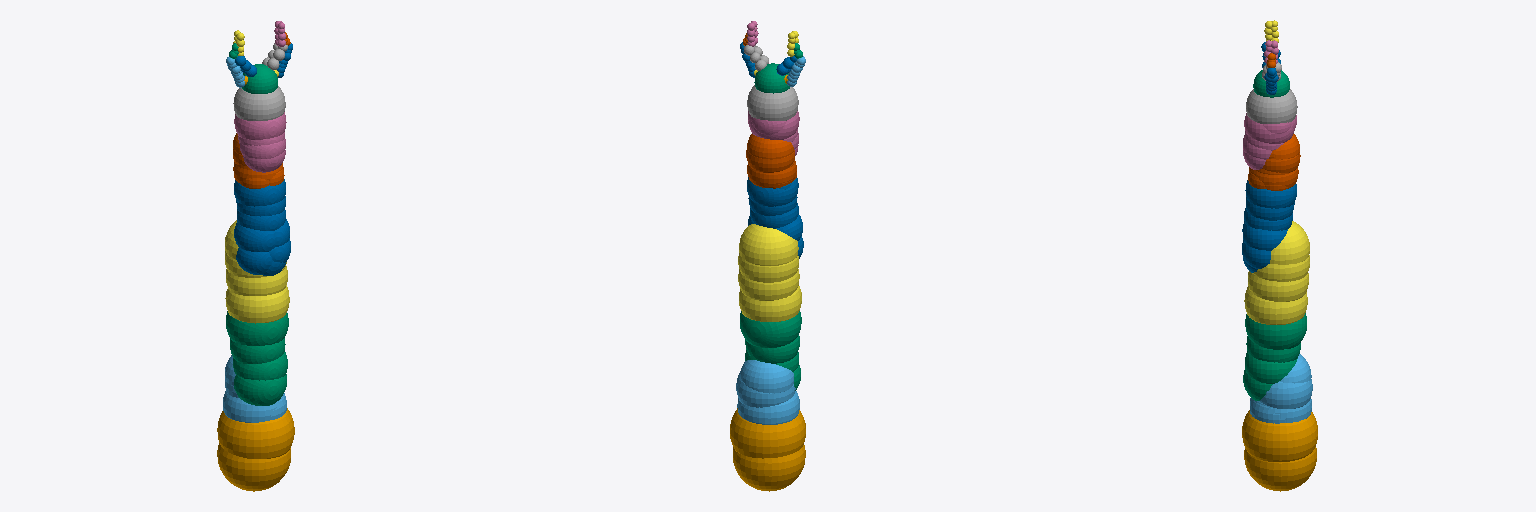
--- Render facts (derived) ---
3 views of the same robot in one strip: view 1: azimuth 30°, elevation 25°; view 2: azimuth 150°, elevation 25°; view 3: azimuth 270°, elevation 25° (orthographic).
Model gen3_robotiq_2f_140 with 21 links and 20 joints (3 revolute, 4 continuous, 13 fixed), rooted at base_link, posed every joint at zero.
Visible links, largest first — view 1: base_link, forearm_link, half_arm_1_link, half_arm_2_link, spherical_wrist_2_link, shoulder_link, bracelet_link, spherical_wrist_1_link, robotiq_arg2f_base_link; view 2: half_arm_2_link, base_link, shoulder_link, half_arm_1_link, forearm_link, spherical_wrist_1_link, bracelet_link, spherical_wrist_2_link, robotiq_arg2f_base_link; view 3: base_link, half_arm_2_link, half_arm_1_link, forearm_link, shoulder_link, spherical_wrist_1_link, spherical_wrist_2_link, bracelet_link.
Link boxes in pixels (x1,y1,x2,y2): base_link: (217, 408, 294, 491); forearm_link: (234, 179, 290, 275); half_arm_1_link: (226, 311, 288, 405); half_arm_2_link: (225, 220, 289, 323); spherical_wrist_2_link: (234, 112, 286, 172); shoulder_link: (223, 355, 286, 422); bracelet_link: (233, 86, 285, 120); spherical_wrist_1_link: (233, 133, 284, 188); robotiq_arg2f_base_link: (242, 64, 277, 93); half_arm_2_link: (738, 224, 801, 321); base_link: (730, 408, 805, 491); shoulder_link: (736, 360, 799, 424); half_arm_1_link: (740, 311, 801, 390); forearm_link: (747, 177, 803, 258); spherical_wrist_1_link: (746, 134, 796, 188); bracelet_link: (747, 85, 798, 120); spherical_wrist_2_link: (748, 111, 799, 155); robotiq_arg2f_base_link: (754, 63, 789, 93); base_link: (1242, 410, 1317, 491); half_arm_2_link: (1244, 221, 1309, 324); half_arm_1_link: (1243, 313, 1306, 400); forearm_link: (1242, 180, 1296, 272); shoulder_link: (1250, 354, 1312, 423); spherical_wrist_1_link: (1248, 134, 1300, 190); spherical_wrist_2_link: (1243, 113, 1296, 169); bracelet_link: (1246, 89, 1297, 123).
Bounding box of the posed robot: 0.2228 × 0.2232 × 1.47 m (x, y, z).
Geometry: primitives only (box / cylinder / sphere), no mesh files.

The robot description file, URDF, robot "gen3_robotiq_2f_140":
<?xml version='1.0' encoding='utf-8'?>
<robot name="gen3_robotiq_2f_140" path="../assets/kinova_gen3/kinova_gen3.urdf">
	<link name="base_link">
		<inertial>
			<origin rpy="0 0 0" xyz="-0.000648 -0.000166 0.084487" />
			<mass value="1.697" />
			<inertia ixx="0.004622" ixy="9E-06" ixz="6E-05" iyy="0.004495" iyz="9E-06" izz="0.002079" />
		</inertial>
		<collision>
			<geometry>
				<sphere radius="0.106585" />
			</geometry>
			<origin xyz="-0.0028389602056587437 0.0010719113916582753 0.04311152284472901" rpy="0 0 0" />
		</collision>
		<collision>
			<geometry>
				<sphere radius="0.111222" />
			</geometry>
			<origin xyz="0.0021220397943412564 -0.0003720886083417247 0.11760152284472901" rpy="0 0 0" />
		</collision>
	<visual name="base_link_visual_1">
			<geometry>
				<sphere radius="0.106585" />
			</geometry>
			<origin xyz="-0.0028389602056587437 0.0010719113916582753 0.04311152284472901" rpy="0 0 0" />
		</visual>
		<visual name="base_link_visual_2">
			<geometry>
				<sphere radius="0.111222" />
			</geometry>
			<origin xyz="0.0021220397943412564 -0.0003720886083417247 0.11760152284472901" rpy="0 0 0" />
		</visual>
	</link>
	<link name="shoulder_link">
		<inertial>
			<origin rpy="0 0 0" xyz="-2.3E-05 -0.010364 -0.07336" />
			<mass value="1.3773" />
			<inertia ixx="0.00457" ixy="1E-06" ixz="2E-06" iyy="0.004831" iyz="0.000448" izz="0.001409" />
		</inertial>
		<collision>
			<geometry>
				<sphere radius="0.091194" />
			</geometry>
			<origin xyz="-0.0015815146350677965 -0.0019901685723896292 -0.04552552105674328" rpy="0 0 0" />
		</collision>
		<collision>
			<geometry>
				<sphere radius="0.080253" />
			</geometry>
			<origin xyz="-0.0021415146350677967 -0.01081216857238963 -0.13783852105674327" rpy="0 0 0" />
		</collision>
		<collision>
			<geometry>
				<sphere radius="0.086897" />
			</geometry>
			<origin xyz="0.004183485364932203 -0.007935168572389628 -0.10612852105674328" rpy="0 0 0" />
		</collision>
		<collision>
			<geometry>
				<sphere radius="0.086099" />
			</geometry>
			<origin xyz="0.004012485364932203 0.0031908314276103715 -0.04079152105674329" rpy="0 0 0" />
		</collision>
	<visual name="shoulder_link_visual_1">
			<geometry>
				<sphere radius="0.091194" />
			</geometry>
			<origin xyz="-0.0015815146350677965 -0.0019901685723896292 -0.04552552105674328" rpy="0 0 0" />
		</visual>
		<visual name="shoulder_link_visual_2">
			<geometry>
				<sphere radius="0.080253" />
			</geometry>
			<origin xyz="-0.0021415146350677967 -0.01081216857238963 -0.13783852105674327" rpy="0 0 0" />
		</visual>
		<visual name="shoulder_link_visual_3">
			<geometry>
				<sphere radius="0.086897" />
			</geometry>
			<origin xyz="0.004183485364932203 -0.007935168572389628 -0.10612852105674328" rpy="0 0 0" />
		</visual>
		<visual name="shoulder_link_visual_4">
			<geometry>
				<sphere radius="0.086099" />
			</geometry>
			<origin xyz="0.004012485364932203 0.0031908314276103715 -0.04079152105674329" rpy="0 0 0" />
		</visual>
	</link>
	<link name="half_arm_1_link">
		<inertial>
			<origin rpy="0 0 0" xyz="-4.4E-05 -0.09958 -0.013278" />
			<mass value="1.1636" />
			<inertia ixx="0.011088" ixy="5E-06" ixz="0" iyy="0.001072" iyz="-0.000691" izz="0.011255" />
		</inertial>
		<collision>
			<geometry>
				<sphere radius="0.090615" />
			</geometry>
			<origin xyz="-0.00035647001452993504 -0.18133966889889402 -0.006131254814246081" rpy="0 0 0" />
		</collision>
		<collision>
			<geometry>
				<sphere radius="0.078671" />
			</geometry>
			<origin xyz="-0.002217470014529935 -0.002781668898894016 -0.02384225481424608" rpy="0 0 0" />
		</collision>
		<collision>
			<geometry>
				<sphere radius="0.079888" />
			</geometry>
			<origin xyz="-0.003008470014529935 -0.11413166889889402 -0.01311525481424608" rpy="0 0 0" />
		</collision>
		<collision>
			<geometry>
				<sphere radius="0.079413" />
			</geometry>
			<origin xyz="0.002277529985470065 -0.05416266889889402 -0.01892125481424608" rpy="0 0 0" />
		</collision>
	<visual name="half_arm_1_link_visual_1">
			<geometry>
				<sphere radius="0.090615" />
			</geometry>
			<origin xyz="-0.00035647001452993504 -0.18133966889889402 -0.006131254814246081" rpy="0 0 0" />
		</visual>
		<visual name="half_arm_1_link_visual_2">
			<geometry>
				<sphere radius="0.078671" />
			</geometry>
			<origin xyz="-0.002217470014529935 -0.002781668898894016 -0.02384225481424608" rpy="0 0 0" />
		</visual>
		<visual name="half_arm_1_link_visual_3">
			<geometry>
				<sphere radius="0.079888" />
			</geometry>
			<origin xyz="-0.003008470014529935 -0.11413166889889402 -0.01311525481424608" rpy="0 0 0" />
		</visual>
		<visual name="half_arm_1_link_visual_4">
			<geometry>
				<sphere radius="0.079413" />
			</geometry>
			<origin xyz="0.002277529985470065 -0.05416266889889402 -0.01892125481424608" rpy="0 0 0" />
		</visual>
	</link>
	<link name="half_arm_2_link">
		<inertial>
			<origin rpy="0 0 0" xyz="-4.4E-05 -0.006641 -0.117892" />
			<mass value="1.1636" />
			<inertia ixx="0.010932" ixy="0" ixz="-7E-06" iyy="0.011127" iyz="0.000606" izz="0.001043" />
		</inertial>
		<collision>
			<geometry>
				<sphere radius="0.092193" />
			</geometry>
			<origin xyz="0.0006058279132786116 0.0001973752587326131 -0.04209310161024811" rpy="0 0 0" />
		</collision>
		<collision>
			<geometry>
				<sphere radius="0.089643" />
			</geometry>
			<origin xyz="0.0019498279132786115 -0.006332624741267386 -0.11276610161024811" rpy="0 0 0" />
		</collision>
		<collision>
			<geometry>
				<sphere radius="0.087097" />
			</geometry>
			<origin xyz="-0.0010401720867213883 -0.011445624741267387 -0.2114391016102481" rpy="0 0 0" />
		</collision>
		<collision>
			<geometry>
				<sphere radius="0.089342" />
			</geometry>
			<origin xyz="0.0005388279132786116 -0.009662624741267386 -0.1692441016102481" rpy="0 0 0" />
		</collision>
	<visual name="half_arm_2_link_visual_1">
			<geometry>
				<sphere radius="0.092193" />
			</geometry>
			<origin xyz="0.0006058279132786116 0.0001973752587326131 -0.04209310161024811" rpy="0 0 0" />
		</visual>
		<visual name="half_arm_2_link_visual_2">
			<geometry>
				<sphere radius="0.089643" />
			</geometry>
			<origin xyz="0.0019498279132786115 -0.006332624741267386 -0.11276610161024811" rpy="0 0 0" />
		</visual>
		<visual name="half_arm_2_link_visual_3">
			<geometry>
				<sphere radius="0.087097" />
			</geometry>
			<origin xyz="-0.0010401720867213883 -0.011445624741267387 -0.2114391016102481" rpy="0 0 0" />
		</visual>
		<visual name="half_arm_2_link_visual_4">
			<geometry>
				<sphere radius="0.089342" />
			</geometry>
			<origin xyz="0.0005388279132786116 -0.009662624741267386 -0.1692441016102481" rpy="0 0 0" />
		</visual>
	</link>
	<link name="forearm_link">
		<inertial>
			<origin rpy="0 0 0" xyz="-1.8E-05 -0.075478 -0.015006" />
			<mass value="0.9302" />
			<inertia ixx="0.008147" ixy="-1E-06" ixz="0" iyy="0.000631" iyz="-0.0005" izz="0.008316" />
		</inertial>
		<collision>
			<geometry>
				<sphere radius="0.071417" />
			</geometry>
			<origin xyz="0.0022488866777107897 -0.14658364036506172 -0.01149060078421775" rpy="0 0 0" />
		</collision>
		<collision>
			<geometry>
				<sphere radius="0.075449" />
			</geometry>
			<origin xyz="0.0008238866777107896 -0.1865976403650617 -0.00758660078421775" rpy="0 0 0" />
		</collision>
		<collision>
			<geometry>
				<sphere radius="0.05023" />
			</geometry>
			<origin xyz="-0.01899511332228921 -0.20562264036506173 0.003261399215782248" rpy="0 0 0" />
		</collision>
		<collision>
			<geometry>
				<sphere radius="0.071334" />
			</geometry>
			<origin xyz="0.00022188667771078964 -0.10397864036506171 -0.01582860078421775" rpy="0 0 0" />
		</collision>
		<collision>
			<geometry>
				<sphere radius="0.070642" />
			</geometry>
			<origin xyz="-0.011813113322289211 -0.05176264036506171 -0.02135360078421775" rpy="0 0 0" />
		</collision>
		<collision>
			<geometry>
				<sphere radius="0.07042" />
			</geometry>
			<origin xyz="0.01178188667771079 -0.05193264036506171 -0.02090460078421775" rpy="0 0 0" />
		</collision>
		<collision>
			<geometry>
				<sphere radius="0.066151" />
			</geometry>
			<origin xyz="-0.016846113322289212 0.0054773596349382975 -0.02516060078421775" rpy="0 0 0" />
		</collision>
		<collision>
			<geometry>
				<sphere radius="0.065691" />
			</geometry>
			<origin xyz="0.005539886677710789 0.017132359634938296 -0.02594860078421775" rpy="0 0 0" />
		</collision>
		<collision>
			<geometry>
				<sphere radius="0.068771" />
			</geometry>
			<origin xyz="0.01423188667771079 -0.004856640365061712 -0.02546460078421775" rpy="0 0 0" />
		</collision>
	<visual name="forearm_link_visual_1">
			<geometry>
				<sphere radius="0.071417" />
			</geometry>
			<origin xyz="0.0022488866777107897 -0.14658364036506172 -0.01149060078421775" rpy="0 0 0" />
		</visual>
		<visual name="forearm_link_visual_2">
			<geometry>
				<sphere radius="0.075449" />
			</geometry>
			<origin xyz="0.0008238866777107896 -0.1865976403650617 -0.00758660078421775" rpy="0 0 0" />
		</visual>
		<visual name="forearm_link_visual_3">
			<geometry>
				<sphere radius="0.05023" />
			</geometry>
			<origin xyz="-0.01899511332228921 -0.20562264036506173 0.003261399215782248" rpy="0 0 0" />
		</visual>
		<visual name="forearm_link_visual_4">
			<geometry>
				<sphere radius="0.071334" />
			</geometry>
			<origin xyz="0.00022188667771078964 -0.10397864036506171 -0.01582860078421775" rpy="0 0 0" />
		</visual>
		<visual name="forearm_link_visual_5">
			<geometry>
				<sphere radius="0.070642" />
			</geometry>
			<origin xyz="-0.011813113322289211 -0.05176264036506171 -0.02135360078421775" rpy="0 0 0" />
		</visual>
		<visual name="forearm_link_visual_6">
			<geometry>
				<sphere radius="0.07042" />
			</geometry>
			<origin xyz="0.01178188667771079 -0.05193264036506171 -0.02090460078421775" rpy="0 0 0" />
		</visual>
		<visual name="forearm_link_visual_7">
			<geometry>
				<sphere radius="0.066151" />
			</geometry>
			<origin xyz="-0.016846113322289212 0.0054773596349382975 -0.02516060078421775" rpy="0 0 0" />
		</visual>
		<visual name="forearm_link_visual_8">
			<geometry>
				<sphere radius="0.065691" />
			</geometry>
			<origin xyz="0.005539886677710789 0.017132359634938296 -0.02594860078421775" rpy="0 0 0" />
		</visual>
		<visual name="forearm_link_visual_9">
			<geometry>
				<sphere radius="0.068771" />
			</geometry>
			<origin xyz="0.01423188667771079 -0.004856640365061712 -0.02546460078421775" rpy="0 0 0" />
		</visual>
	</link>
	<link name="spherical_wrist_1_link">
		<inertial>
			<origin rpy="0 0 0" xyz="1E-06 -0.009432 -0.063883" />
			<mass value="0.6781" />
			<inertia ixx="0.001596" ixy="0" ixz="0" iyy="0.001607" iyz="0.000256" izz="0.000399" />
		</inertial>
		<collision>
			<geometry>
				<sphere radius="0.069272" />
			</geometry>
			<origin xyz="-0.0011128281812018805 -0.013383711588637916 -0.10776088853186075" rpy="0 0 0" />
		</collision>
		<collision>
			<geometry>
				<sphere radius="0.071631" />
			</geometry>
			<origin xyz="-0.00017482818120188062 -0.012066711588637915 -0.08814188853186075" rpy="0 0 0" />
		</collision>
		<collision>
			<geometry>
				<sphere radius="0.05849" />
			</geometry>
			<origin xyz="0.00863317181879812 -0.006105711588637916 -0.11439788853186075" rpy="0 0 0" />
		</collision>
		<collision>
			<geometry>
				<sphere radius="0.068429" />
			</geometry>
			<origin xyz="0.00020117181879811936 -0.006875711588637916 -0.062411888531860756" rpy="0 0 0" />
		</collision>
		<collision>
			<geometry>
				<sphere radius="0.05998" />
			</geometry>
			<origin xyz="0.01176617181879812 -0.005603711588637915 -0.024077888531860756" rpy="0 0 0" />
		</collision>
		<collision>
			<geometry>
				<sphere radius="0.063872" />
			</geometry>
			<origin xyz="-0.0070528281812018805 -0.008839711588637915 -0.029328888531860754" rpy="0 0 0" />
		</collision>
		<collision>
			<geometry>
				<sphere radius="0.072406" />
			</geometry>
			<origin xyz="-0.00041182818120188064 -0.005554711588637915 -0.036324888531860756" rpy="0 0 0" />
		</collision>
		<collision>
			<geometry>
				<sphere radius="0.058017" />
			</geometry>
			<origin xyz="-0.01040582818120188 0.008838288411362083 -0.02230688853186076" rpy="0 0 0" />
		</collision>
		<collision>
			<geometry>
				<sphere radius="0.057836" />
			</geometry>
			<origin xyz="0.009345171818798119 0.011025288411362084 -0.022980888531860755" rpy="0 0 0" />
		</collision>
	<visual name="spherical_wrist_1_link_visual_1">
			<geometry>
				<sphere radius="0.069272" />
			</geometry>
			<origin xyz="-0.0011128281812018805 -0.013383711588637916 -0.10776088853186075" rpy="0 0 0" />
		</visual>
		<visual name="spherical_wrist_1_link_visual_2">
			<geometry>
				<sphere radius="0.071631" />
			</geometry>
			<origin xyz="-0.00017482818120188062 -0.012066711588637915 -0.08814188853186075" rpy="0 0 0" />
		</visual>
		<visual name="spherical_wrist_1_link_visual_3">
			<geometry>
				<sphere radius="0.05849" />
			</geometry>
			<origin xyz="0.00863317181879812 -0.006105711588637916 -0.11439788853186075" rpy="0 0 0" />
		</visual>
		<visual name="spherical_wrist_1_link_visual_4">
			<geometry>
				<sphere radius="0.068429" />
			</geometry>
			<origin xyz="0.00020117181879811936 -0.006875711588637916 -0.062411888531860756" rpy="0 0 0" />
		</visual>
		<visual name="spherical_wrist_1_link_visual_5">
			<geometry>
				<sphere radius="0.05998" />
			</geometry>
			<origin xyz="0.01176617181879812 -0.005603711588637915 -0.024077888531860756" rpy="0 0 0" />
		</visual>
		<visual name="spherical_wrist_1_link_visual_6">
			<geometry>
				<sphere radius="0.063872" />
			</geometry>
			<origin xyz="-0.0070528281812018805 -0.008839711588637915 -0.029328888531860754" rpy="0 0 0" />
		</visual>
		<visual name="spherical_wrist_1_link_visual_7">
			<geometry>
				<sphere radius="0.072406" />
			</geometry>
			<origin xyz="-0.00041182818120188064 -0.005554711588637915 -0.036324888531860756" rpy="0 0 0" />
		</visual>
		<visual name="spherical_wrist_1_link_visual_8">
			<geometry>
				<sphere radius="0.058017" />
			</geometry>
			<origin xyz="-0.01040582818120188 0.008838288411362083 -0.02230688853186076" rpy="0 0 0" />
		</visual>
		<visual name="spherical_wrist_1_link_visual_9">
			<geometry>
				<sphere radius="0.057836" />
			</geometry>
			<origin xyz="0.009345171818798119 0.011025288411362084 -0.022980888531860755" rpy="0 0 0" />
		</visual>
	</link>
	<link name="spherical_wrist_2_link">
		<inertial>
			<origin rpy="0 0 0" xyz="1E-06 -0.045483 -0.00965" />
			<mass value="0.6781" />
			<inertia ixx="0.001641" ixy="0" ixz="0" iyy="0.00041" iyz="-0.000278" izz="0.001641" />
		</inertial>
		<collision>
			<geometry>
				<sphere radius="0.074923" />
			</geometry>
			<origin xyz="-0.0006428535172599168 -0.08541720868890382 -0.005266136467073976" rpy="0 0 0" />
		</collision>
		<collision>
			<geometry>
				<sphere radius="0.064399" />
			</geometry>
			<origin xyz="-0.0033768535172599167 -0.09533520868890383 0.009213863532926025" rpy="0 0 0" />
		</collision>
		<collision>
			<geometry>
				<sphere radius="0.061292" />
			</geometry>
			<origin xyz="0.012980146482740084 -0.09892820868890383 0.001942863532926024" rpy="0 0 0" />
		</collision>
		<collision>
			<geometry>
				<sphere radius="0.067769" />
			</geometry>
			<origin xyz="-0.0003808535172599168 -0.04483420868890382 -0.011461136467073977" rpy="0 0 0" />
		</collision>
		<collision>
			<geometry>
				<sphere radius="0.068003" />
			</geometry>
			<origin xyz="-0.0007038535172599168 -0.019491208688903826 -0.016619136467073976" rpy="0 0 0" />
		</collision>
		<collision>
			<geometry>
				<sphere radius="0.045117" />
			</geometry>
			<origin xyz="-0.018136853517259917 0.008569791311096177 -0.012117136467073976" rpy="0 0 0" />
		</collision>
		<collision>
			<geometry>
				<sphere radius="0.060388" />
			</geometry>
			<origin xyz="-0.004210853517259917 0.005328791311096176 -0.021625136467073976" rpy="0 0 0" />
		</collision>
		<collision>
			<geometry>
				<sphere radius="0.061377" />
			</geometry>
			<origin xyz="0.0028871464827400833 0.004023791311096175 -0.021727136467073978" rpy="0 0 0" />
		</collision>
		<collision>
			<geometry>
				<sphere radius="0.050106" />
			</geometry>
			<origin xyz="0.012565146482740083 0.010904791311096174 -0.014690136467073976" rpy="0 0 0" />
		</collision>
	<visual name="spherical_wrist_2_link_visual_1">
			<geometry>
				<sphere radius="0.074923" />
			</geometry>
			<origin xyz="-0.0006428535172599168 -0.08541720868890382 -0.005266136467073976" rpy="0 0 0" />
		</visual>
		<visual name="spherical_wrist_2_link_visual_2">
			<geometry>
				<sphere radius="0.064399" />
			</geometry>
			<origin xyz="-0.0033768535172599167 -0.09533520868890383 0.009213863532926025" rpy="0 0 0" />
		</visual>
		<visual name="spherical_wrist_2_link_visual_3">
			<geometry>
				<sphere radius="0.061292" />
			</geometry>
			<origin xyz="0.012980146482740084 -0.09892820868890383 0.001942863532926024" rpy="0 0 0" />
		</visual>
		<visual name="spherical_wrist_2_link_visual_4">
			<geometry>
				<sphere radius="0.067769" />
			</geometry>
			<origin xyz="-0.0003808535172599168 -0.04483420868890382 -0.011461136467073977" rpy="0 0 0" />
		</visual>
		<visual name="spherical_wrist_2_link_visual_5">
			<geometry>
				<sphere radius="0.068003" />
			</geometry>
			<origin xyz="-0.0007038535172599168 -0.019491208688903826 -0.016619136467073976" rpy="0 0 0" />
		</visual>
		<visual name="spherical_wrist_2_link_visual_6">
			<geometry>
				<sphere radius="0.045117" />
			</geometry>
			<origin xyz="-0.018136853517259917 0.008569791311096177 -0.012117136467073976" rpy="0 0 0" />
		</visual>
		<visual name="spherical_wrist_2_link_visual_7">
			<geometry>
				<sphere radius="0.060388" />
			</geometry>
			<origin xyz="-0.004210853517259917 0.005328791311096176 -0.021625136467073976" rpy="0 0 0" />
		</visual>
		<visual name="spherical_wrist_2_link_visual_8">
			<geometry>
				<sphere radius="0.061377" />
			</geometry>
			<origin xyz="0.0028871464827400833 0.004023791311096175 -0.021727136467073978" rpy="0 0 0" />
		</visual>
		<visual name="spherical_wrist_2_link_visual_9">
			<geometry>
				<sphere radius="0.050106" />
			</geometry>
			<origin xyz="0.012565146482740083 0.010904791311096174 -0.014690136467073976" rpy="0 0 0" />
		</visual>
	</link>
	<link name="bracelet_link">
		<inertial>
			<origin rpy="0 0 0" xyz="-9.3E-05 0.000132 -0.022905" />
			<mass value="0.364" />
			<inertia ixx="0.000214" ixy="0" ixz="1E-06" iyy="0.000223" iyz="-2E-06" izz="0.00024" />
		</inertial>
		<collision>
			<geometry>
				<sphere radius="0.075089" />
			</geometry>
			<origin xyz="-0.0002936601190272949 -2.8636385271732176e-05 -0.03292566625354537" rpy="0 0 0" />
		</collision>
	<visual name="bracelet_link_visual_1">
			<geometry>
				<sphere radius="0.075089" />
			</geometry>
			<origin xyz="-0.0002936601190272949 -2.8636385271732176e-05 -0.03292566625354537" rpy="0 0 0" />
		</visual>
	</link>
	<link name="end_effector_link" />
	<link name="tool_frame" />
	<link name="robotiq_arg2f_base_link">
		<inertial>
			<origin rpy="0 0 0" xyz="8.625E-08 -4.6583E-06 0.03145" />
			<mass value="0.22652" />
			<inertia ixx="0.00020005" ixy="-4.2442E-10" ixz="-2.9069E-10" iyy="0.00017832" iyz="-3.4402E-08" izz="0.00013478" />
		</inertial>
		<collision>
			<geometry>
				<sphere radius="0.053503" />
			</geometry>
			<origin xyz="-1e-06 -1e-06 0.03976211301029474" rpy="0 0 0" />
		</collision>
	<visual name="robotiq_arg2f_base_link_visual_1">
			<geometry>
				<sphere radius="0.053503" />
			</geometry>
			<origin xyz="-1e-06 -1e-06 0.03976211301029474" rpy="0 0 0" />
		</visual>
	</link>
	<link name="left_outer_knuckle">
		<inertial>
			<origin rpy="0 0 0" xyz="-0.000200000000003065 0.0199435877845359 0.0292245259211331" />
			<mass value="0.00853198276973456" />
			<inertia ixx="2.89328108496468E-06" ixy="-1.57935047237397E-19" ixz="-1.93980378593255E-19" iyy="1.86719750325683E-06" iyz="-1.21858577871576E-06" izz="1.21905238907251E-06" />
		</inertial>
		<collision>
			<geometry>
				<sphere radius="0.012743" />
			</geometry>
			<origin xyz="-0.00019999966025352478 0.02048839362347126 0.02052081721776724" rpy="0 0 0" />
		</collision>
		<collision>
			<geometry>
				<sphere radius="0.013744" />
			</geometry>
			<origin xyz="-0.00019999966025352478 0.018234393623471262 0.01590081721776724" rpy="0 0 0" />
		</collision>
		<collision>
			<geometry>
				<sphere radius="0.013928" />
			</geometry>
			<origin xyz="-0.00019999966025352478 0.011400393623471259 0.009848817217767238" rpy="0 0 0" />
		</collision>
		<collision>
			<geometry>
				<sphere radius="0.008064" />
			</geometry>
			<origin xyz="-0.00018199966025352478 -0.014014606376528741 -0.01488018278223276" rpy="0 0 0" />
		</collision>
		<collision>
			<geometry>
				<sphere radius="0.010542" />
			</geometry>
			<origin xyz="-0.0006929996602535247 -0.00623760637652874 -0.007067182782232761" rpy="0 0 0" />
		</collision>
		<collision>
			<geometry>
				<sphere radius="0.01151" />
			</geometry>
			<origin xyz="-0.00017099966025352478 0.0023013936234712604 0.0013738172177672385" rpy="0 0 0" />
		</collision>
	<visual name="left_outer_knuckle_visual_1">
			<geometry>
				<sphere radius="0.012743" />
			</geometry>
			<origin xyz="-0.00019999966025352478 0.02048839362347126 0.02052081721776724" rpy="0 0 0" />
		</visual>
		<visual name="left_outer_knuckle_visual_2">
			<geometry>
				<sphere radius="0.013744" />
			</geometry>
			<origin xyz="-0.00019999966025352478 0.018234393623471262 0.01590081721776724" rpy="0 0 0" />
		</visual>
		<visual name="left_outer_knuckle_visual_3">
			<geometry>
				<sphere radius="0.013928" />
			</geometry>
			<origin xyz="-0.00019999966025352478 0.011400393623471259 0.009848817217767238" rpy="0 0 0" />
		</visual>
		<visual name="left_outer_knuckle_visual_4">
			<geometry>
				<sphere radius="0.008064" />
			</geometry>
			<origin xyz="-0.00018199966025352478 -0.014014606376528741 -0.01488018278223276" rpy="0 0 0" />
		</visual>
		<visual name="left_outer_knuckle_visual_5">
			<geometry>
				<sphere radius="0.010542" />
			</geometry>
			<origin xyz="-0.0006929996602535247 -0.00623760637652874 -0.007067182782232761" rpy="0 0 0" />
		</visual>
		<visual name="left_outer_knuckle_visual_6">
			<geometry>
				<sphere radius="0.01151" />
			</geometry>
			<origin xyz="-0.00017099966025352478 0.0023013936234712604 0.0013738172177672385" rpy="0 0 0" />
		</visual>
	</link>
	<link name="left_outer_finger">
		<inertial>
			<origin rpy="0 0 0" xyz="0.00030115855001899 0.0373907951953854 -0.0208027427000385" />
			<mass value="0.022614240507152" />
			<inertia ixx="1.52518312458174E-05" ixy="9.76583423954399E-10" ixz="-5.43838577022588E-10" iyy="6.17694243867776E-06" iyz="6.78636130740228E-06" izz="1.16494917907219E-05" />
		</inertial>
		<collision>
			<geometry>
				<sphere radius="0.015017" />
			</geometry>
			<origin xyz="-0.0007529954268336296 0.038191566359490156 -0.014729038674920798" rpy="0 0 0" />
		</collision>
		<collision>
			<geometry>
				<sphere radius="0.01438" />
			</geometry>
			<origin xyz="-0.0002139954268336296 0.08000556635949016 -0.027427038674920797" rpy="0 0 0" />
		</collision>
		<collision>
			<geometry>
				<sphere radius="0.015713" />
			</geometry>
			<origin xyz="0.0002440045731663704 0.027060566359490154 -0.011313038674920797" rpy="0 0 0" />
		</collision>
		<collision>
			<geometry>
				<sphere radius="0.015813" />
			</geometry>
			<origin xyz="-0.0005939954268336296 0.015680566359490156 -0.007732038674920797" rpy="0 0 0" />
		</collision>
		<collision>
			<geometry>
				<sphere radius="0.014978" />
			</geometry>
			<origin xyz="-0.00611599542683363 0.055784566359490154 -0.020123038674920796" rpy="0 0 0" />
		</collision>
		<collision>
			<geometry>
				<sphere radius="0.014533" />
			</geometry>
			<origin xyz="0.00555600457316637 0.051975566359490154 -0.018955038674920797" rpy="0 0 0" />
		</collision>
		<collision>
			<geometry>
				<sphere radius="0.015732" />
			</geometry>
			<origin xyz="-0.0001989954268336296 0.0037445663594901576 -0.0018980386749207975" rpy="0 0 0" />
		</collision>
		<collision>
			<geometry>
				<sphere radius="0.015163" />
			</geometry>
			<origin xyz="0.0001950045731663704 0.06990656635949016 -0.024438038674920795" rpy="0 0 0" />
		</collision>
	<visual name="left_outer_finger_visual_1">
			<geometry>
				<sphere radius="0.015017" />
			</geometry>
			<origin xyz="-0.0007529954268336296 0.038191566359490156 -0.014729038674920798" rpy="0 0 0" />
		</visual>
		<visual name="left_outer_finger_visual_2">
			<geometry>
				<sphere radius="0.01438" />
			</geometry>
			<origin xyz="-0.0002139954268336296 0.08000556635949016 -0.027427038674920797" rpy="0 0 0" />
		</visual>
		<visual name="left_outer_finger_visual_3">
			<geometry>
				<sphere radius="0.015713" />
			</geometry>
			<origin xyz="0.0002440045731663704 0.027060566359490154 -0.011313038674920797" rpy="0 0 0" />
		</visual>
		<visual name="left_outer_finger_visual_4">
			<geometry>
				<sphere radius="0.015813" />
			</geometry>
			<origin xyz="-0.0005939954268336296 0.015680566359490156 -0.007732038674920797" rpy="0 0 0" />
		</visual>
		<visual name="left_outer_finger_visual_5">
			<geometry>
				<sphere radius="0.014978" />
			</geometry>
			<origin xyz="-0.00611599542683363 0.055784566359490154 -0.020123038674920796" rpy="0 0 0" />
		</visual>
		<visual name="left_outer_finger_visual_6">
			<geometry>
				<sphere radius="0.014533" />
			</geometry>
			<origin xyz="0.00555600457316637 0.051975566359490154 -0.018955038674920797" rpy="0 0 0" />
		</visual>
		<visual name="left_outer_finger_visual_7">
			<geometry>
				<sphere radius="0.015732" />
			</geometry>
			<origin xyz="-0.0001989954268336296 0.0037445663594901576 -0.0018980386749207975" rpy="0 0 0" />
		</visual>
		<visual name="left_outer_finger_visual_8">
			<geometry>
				<sphere radius="0.015163" />
			</geometry>
			<origin xyz="0.0001950045731663704 0.06990656635949016 -0.024438038674920795" rpy="0 0 0" />
		</visual>
	</link>
	<link name="left_inner_finger">
		<inertial>
			<origin rpy="0 0 0" xyz="0.000299999999999317 0.0160078233491243 -0.0136945669206257" />
			<mass value="0.0104003125914103" />
			<inertia ixx="2.71909453810972E-06" ixy="1.35402465472579E-21" ixz="-7.1817349065269E-22" iyy="7.69100314106116E-07" iyz="6.74715432769696E-07" izz="2.30315190420171E-06" />
		</inertial>
		<collision>
			<geometry>
				<sphere radius="0.01223" />
			</geometry>
			<origin xyz="-0.00019899826326966286 0.03709378533244133 -0.017156007689893248" rpy="0 0 0" />
		</collision>
		<collision>
			<geometry>
				<sphere radius="0.012987" />
			</geometry>
			<origin xyz="-0.00019999826326966286 0.02389478533244133 -0.015688007689893244" rpy="0 0 0" />
		</collision>
		<collision>
			<geometry>
				<sphere radius="0.013304" />
			</geometry>
			<origin xyz="-0.00019999826326966286 0.0074657853324413305 -0.016401007689893245" rpy="0 0 0" />
		</collision>
		<collision>
			<geometry>
				<sphere radius="0.011631" />
			</geometry>
			<origin xyz="-0.00019999826326966286 0.0023397853324413284 -0.002310007689893246" rpy="0 0 0" />
		</collision>
		<collision>
			<geometry>
				<sphere radius="0.013312" />
			</geometry>
			<origin xyz="-0.00019999826326966286 0.01608078533244133 -0.008831007689893245" rpy="0 0 0" />
		</collision>
	<visual name="left_inner_finger_visual_1">
			<geometry>
				<sphere radius="0.01223" />
			</geometry>
			<origin xyz="-0.00019899826326966286 0.03709378533244133 -0.017156007689893248" rpy="0 0 0" />
		</visual>
		<visual name="left_inner_finger_visual_2">
			<geometry>
				<sphere radius="0.012987" />
			</geometry>
			<origin xyz="-0.00019999826326966286 0.02389478533244133 -0.015688007689893244" rpy="0 0 0" />
		</visual>
		<visual name="left_inner_finger_visual_3">
			<geometry>
				<sphere radius="0.013304" />
			</geometry>
			<origin xyz="-0.00019999826326966286 0.0074657853324413305 -0.016401007689893245" rpy="0 0 0" />
		</visual>
		<visual name="left_inner_finger_visual_4">
			<geometry>
				<sphere radius="0.011631" />
			</geometry>
			<origin xyz="-0.00019999826326966286 0.0023397853324413284 -0.002310007689893246" rpy="0 0 0" />
		</visual>
		<visual name="left_inner_finger_visual_5">
			<geometry>
				<sphere radius="0.013312" />
			</geometry>
			<origin xyz="-0.00019999826326966286 0.01608078533244133 -0.008831007689893245" rpy="0 0 0" />
		</visual>
	</link>
	<link name="left_inner_finger_pad">
		<collision>
			<geometry>
				<sphere radius="0.01168" />
			</geometry>
			<origin xyz="0.006303 -0.028186 0.0" rpy="0 0 0" />
		</collision>
		<collision>
			<geometry>
				<sphere radius="0.012372" />
			</geometry>
			<origin xyz="-0.008853 -0.02494 0.0" rpy="0 0 0" />
		</collision>
		<collision>
			<geometry>
				<sphere radius="0.011967" />
			</geometry>
			<origin xyz="0.006878 -0.012499 0.0" rpy="0 0 0" />
		</collision>
		<collision>
			<geometry>
				<sphere radius="0.012126" />
			</geometry>
			<origin xyz="-0.010292 -0.003527 0.0" rpy="0 0 0" />
		</collision>
		<collision>
			<geometry>
				<sphere radius="0.012565" />
			</geometry>
			<origin xyz="0.008954 0.006853 0.0" rpy="0 0 0" />
		</collision>
		<collision>
			<geometry>
				<sphere radius="0.010995" />
			</geometry>
			<origin xyz="-0.006813 0.014358 0.0" rpy="0 0 0" />
		</collision>
		<collision>
			<geometry>
				<sphere radius="0.012008" />
			</geometry>
			<origin xyz="0.007685 0.026253 0.0" rpy="0 0 0" />
		</collision>
		<collision>
			<geometry>
				<sphere radius="0.010647" />
			</geometry>
			<origin xyz="-0.00758 0.028348 0.0" rpy="0 0 0" />
		</collision>
	<visual name="left_inner_finger_pad_visual_1">
			<geometry>
				<sphere radius="0.01168" />
			</geometry>
			<origin xyz="0.006303 -0.028186 0.0" rpy="0 0 0" />
		</visual>
		<visual name="left_inner_finger_pad_visual_2">
			<geometry>
				<sphere radius="0.012372" />
			</geometry>
			<origin xyz="-0.008853 -0.02494 0.0" rpy="0 0 0" />
		</visual>
		<visual name="left_inner_finger_pad_visual_3">
			<geometry>
				<sphere radius="0.011967" />
			</geometry>
			<origin xyz="0.006878 -0.012499 0.0" rpy="0 0 0" />
		</visual>
		<visual name="left_inner_finger_pad_visual_4">
			<geometry>
				<sphere radius="0.012126" />
			</geometry>
			<origin xyz="-0.010292 -0.003527 0.0" rpy="0 0 0" />
		</visual>
		<visual name="left_inner_finger_pad_visual_5">
			<geometry>
				<sphere radius="0.012565" />
			</geometry>
			<origin xyz="0.008954 0.006853 0.0" rpy="0 0 0" />
		</visual>
		<visual name="left_inner_finger_pad_visual_6">
			<geometry>
				<sphere radius="0.010995" />
			</geometry>
			<origin xyz="-0.006813 0.014358 0.0" rpy="0 0 0" />
		</visual>
		<visual name="left_inner_finger_pad_visual_7">
			<geometry>
				<sphere radius="0.012008" />
			</geometry>
			<origin xyz="0.007685 0.026253 0.0" rpy="0 0 0" />
		</visual>
		<visual name="left_inner_finger_pad_visual_8">
			<geometry>
				<sphere radius="0.010647" />
			</geometry>
			<origin xyz="-0.00758 0.028348 0.0" rpy="0 0 0" />
		</visual>
	</link>
	<link name="left_inner_knuckle">
		<inertial>
			<origin rpy="0 0 0" xyz="0.000123011831763771 0.0507850843201817 0.00103968640075166" />
			<mass value="0.0271177346495152" />
			<inertia ixx="2.61910379223783E-05" ixy="-2.43616858946494E-07" ixz="-6.37789906117123E-09" iyy="2.8270243746167E-06" iyz="-5.37200748039765E-07" izz="2.83695868220296E-05" />
		</inertial>
		<collision>
			<geometry>
				<sphere radius="0.017433" />
			</geometry>
			<origin xyz="-0.011491000846385956 0.009454694714218378 -0.00021026292836666112" rpy="0 0 0" />
		</collision>
		<collision>
			<geometry>
				<sphere radius="0.017072" />
			</geometry>
			<origin xyz="0.008844999153614044 0.006851694714218377 -0.00015226292836666112" rpy="0 0 0" />
		</collision>
		<collision>
			<geometry>
				<sphere radius="0.018156" />
			</geometry>
			<origin xyz="0.009525999153614044 0.03400569471421838 -0.000754262928366661" rpy="0 0 0" />
		</collision>
		<collision>
			<geometry>
				<sphere radius="0.017869" />
			</geometry>
			<origin xyz="-0.010610000846385956 0.040353694714218374 -0.0008952629283666611" rpy="0 0 0" />
		</collision>
		<collision>
			<geometry>
				<sphere radius="0.016357" />
			</geometry>
			<origin xyz="0.010540999153614044 0.06187269471421838 -0.001373262928366661" rpy="0 0 0" />
		</collision>
		<collision>
			<geometry>
				<sphere radius="0.017531" />
			</geometry>
			<origin xyz="-0.008726000846385955 0.07194569471421838 -0.001597262928366661" rpy="0 0 0" />
		</collision>
		<collision>
			<geometry>
				<sphere radius="0.016813" />
			</geometry>
			<origin xyz="0.013444999153614044 0.09027369471421838 -0.002003262928366661" rpy="0 0 0" />
		</collision>
		<collision>
			<geometry>
				<sphere radius="0.014551" />
			</geometry>
			<origin xyz="-0.002933000846385956 0.09701569471421838 -0.002153262928366661" rpy="0 0 0" />
		</collision>
	<visual name="left_inner_knuckle_visual_1">
			<geometry>
				<sphere radius="0.017433" />
			</geometry>
			<origin xyz="-0.011491000846385956 0.009454694714218378 -0.00021026292836666112" rpy="0 0 0" />
		</visual>
		<visual name="left_inner_knuckle_visual_2">
			<geometry>
				<sphere radius="0.017072" />
			</geometry>
			<origin xyz="0.008844999153614044 0.006851694714218377 -0.00015226292836666112" rpy="0 0 0" />
		</visual>
		<visual name="left_inner_knuckle_visual_3">
			<geometry>
				<sphere radius="0.018156" />
			</geometry>
			<origin xyz="0.009525999153614044 0.03400569471421838 -0.000754262928366661" rpy="0 0 0" />
		</visual>
		<visual name="left_inner_knuckle_visual_4">
			<geometry>
				<sphere radius="0.017869" />
			</geometry>
			<origin xyz="-0.010610000846385956 0.040353694714218374 -0.0008952629283666611" rpy="0 0 0" />
		</visual>
		<visual name="left_inner_knuckle_visual_5">
			<geometry>
				<sphere radius="0.016357" />
			</geometry>
			<origin xyz="0.010540999153614044 0.06187269471421838 -0.001373262928366661" rpy="0 0 0" />
		</visual>
		<visual name="left_inner_knuckle_visual_6">
			<geometry>
				<sphere radius="0.017531" />
			</geometry>
			<origin xyz="-0.008726000846385955 0.07194569471421838 -0.001597262928366661" rpy="0 0 0" />
		</visual>
		<visual name="left_inner_knuckle_visual_7">
			<geometry>
				<sphere radius="0.016813" />
			</geometry>
			<origin xyz="0.013444999153614044 0.09027369471421838 -0.002003262928366661" rpy="0 0 0" />
		</visual>
		<visual name="left_inner_knuckle_visual_8">
			<geometry>
				<sphere radius="0.014551" />
			</geometry>
			<origin xyz="-0.002933000846385956 0.09701569471421838 -0.002153262928366661" rpy="0 0 0" />
		</visual>
	</link>
	<link name="right_outer_knuckle">
		<inertial>
			<origin rpy="0 0 0" xyz="-0.000200000000003065 0.0199435877845359 0.0292245259211331" />
			<mass value="0.00853198276973456" />
			<inertia ixx="2.89328108496468E-06" ixy="-1.57935047237397E-19" ixz="-1.93980378593255E-19" iyy="1.86719750325683E-06" iyz="-1.21858577871576E-06" izz="1.21905238907251E-06" />
		</inertial>
		<collision>
			<geometry>
				<sphere radius="0.012743" />
			</geometry>
			<origin xyz="-0.00019999966025352478 0.02048839362347126 0.02052081721776724" rpy="0 0 0" />
		</collision>
		<collision>
			<geometry>
				<sphere radius="0.013744" />
			</geometry>
			<origin xyz="-0.00019999966025352478 0.018234393623471262 0.01590081721776724" rpy="0 0 0" />
		</collision>
		<collision>
			<geometry>
				<sphere radius="0.013928" />
			</geometry>
			<origin xyz="-0.00019999966025352478 0.011400393623471259 0.009848817217767238" rpy="0 0 0" />
		</collision>
		<collision>
			<geometry>
				<sphere radius="0.008064" />
			</geometry>
			<origin xyz="-0.00018199966025352478 -0.014014606376528741 -0.01488018278223276" rpy="0 0 0" />
		</collision>
		<collision>
			<geometry>
				<sphere radius="0.010542" />
			</geometry>
			<origin xyz="-0.0006929996602535247 -0.00623760637652874 -0.007067182782232761" rpy="0 0 0" />
		</collision>
		<collision>
			<geometry>
				<sphere radius="0.01151" />
			</geometry>
			<origin xyz="-0.00017099966025352478 0.0023013936234712604 0.0013738172177672385" rpy="0 0 0" />
		</collision>
	<visual name="right_outer_knuckle_visual_1">
			<geometry>
				<sphere radius="0.012743" />
			</geometry>
			<origin xyz="-0.00019999966025352478 0.02048839362347126 0.02052081721776724" rpy="0 0 0" />
		</visual>
		<visual name="right_outer_knuckle_visual_2">
			<geometry>
				<sphere radius="0.013744" />
			</geometry>
			<origin xyz="-0.00019999966025352478 0.018234393623471262 0.01590081721776724" rpy="0 0 0" />
		</visual>
		<visual name="right_outer_knuckle_visual_3">
			<geometry>
				<sphere radius="0.013928" />
			</geometry>
			<origin xyz="-0.00019999966025352478 0.011400393623471259 0.009848817217767238" rpy="0 0 0" />
		</visual>
		<visual name="right_outer_knuckle_visual_4">
			<geometry>
				<sphere radius="0.008064" />
			</geometry>
			<origin xyz="-0.00018199966025352478 -0.014014606376528741 -0.01488018278223276" rpy="0 0 0" />
		</visual>
		<visual name="right_outer_knuckle_visual_5">
			<geometry>
				<sphere radius="0.010542" />
			</geometry>
			<origin xyz="-0.0006929996602535247 -0.00623760637652874 -0.007067182782232761" rpy="0 0 0" />
		</visual>
		<visual name="right_outer_knuckle_visual_6">
			<geometry>
				<sphere radius="0.01151" />
			</geometry>
			<origin xyz="-0.00017099966025352478 0.0023013936234712604 0.0013738172177672385" rpy="0 0 0" />
		</visual>
	</link>
	<link name="right_outer_finger">
		<inertial>
			<origin rpy="0 0 0" xyz="0.00030115855001899 0.0373907951953854 -0.0208027427000385" />
			<mass value="0.022614240507152" />
			<inertia ixx="1.52518312458174E-05" ixy="9.76583423954399E-10" ixz="-5.43838577022588E-10" iyy="6.17694243867776E-06" iyz="6.78636130740228E-06" izz="1.16494917907219E-05" />
		</inertial>
		<collision>
			<geometry>
				<sphere radius="0.015017" />
			</geometry>
			<origin xyz="-0.0007529954268336296 0.038191566359490156 -0.014729038674920798" rpy="0 0 0" />
		</collision>
		<collision>
			<geometry>
				<sphere radius="0.01438" />
			</geometry>
			<origin xyz="-0.0002139954268336296 0.08000556635949016 -0.027427038674920797" rpy="0 0 0" />
		</collision>
		<collision>
			<geometry>
				<sphere radius="0.015713" />
			</geometry>
			<origin xyz="0.0002440045731663704 0.027060566359490154 -0.011313038674920797" rpy="0 0 0" />
		</collision>
		<collision>
			<geometry>
				<sphere radius="0.015813" />
			</geometry>
			<origin xyz="-0.0005939954268336296 0.015680566359490156 -0.007732038674920797" rpy="0 0 0" />
		</collision>
		<collision>
			<geometry>
				<sphere radius="0.014978" />
			</geometry>
			<origin xyz="-0.00611599542683363 0.055784566359490154 -0.020123038674920796" rpy="0 0 0" />
		</collision>
		<collision>
			<geometry>
				<sphere radius="0.014533" />
			</geometry>
			<origin xyz="0.00555600457316637 0.051975566359490154 -0.018955038674920797" rpy="0 0 0" />
		</collision>
		<collision>
			<geometry>
				<sphere radius="0.015732" />
			</geometry>
			<origin xyz="-0.0001989954268336296 0.0037445663594901576 -0.0018980386749207975" rpy="0 0 0" />
		</collision>
		<collision>
			<geometry>
				<sphere radius="0.015163" />
			</geometry>
			<origin xyz="0.0001950045731663704 0.06990656635949016 -0.024438038674920795" rpy="0 0 0" />
		</collision>
	<visual name="right_outer_finger_visual_1">
			<geometry>
				<sphere radius="0.015017" />
			</geometry>
			<origin xyz="-0.0007529954268336296 0.038191566359490156 -0.014729038674920798" rpy="0 0 0" />
		</visual>
		<visual name="right_outer_finger_visual_2">
			<geometry>
				<sphere radius="0.01438" />
			</geometry>
			<origin xyz="-0.0002139954268336296 0.08000556635949016 -0.027427038674920797" rpy="0 0 0" />
		</visual>
		<visual name="right_outer_finger_visual_3">
			<geometry>
				<sphere radius="0.015713" />
			</geometry>
			<origin xyz="0.0002440045731663704 0.027060566359490154 -0.011313038674920797" rpy="0 0 0" />
		</visual>
		<visual name="right_outer_finger_visual_4">
			<geometry>
				<sphere radius="0.015813" />
			</geometry>
			<origin xyz="-0.0005939954268336296 0.015680566359490156 -0.007732038674920797" rpy="0 0 0" />
		</visual>
		<visual name="right_outer_finger_visual_5">
			<geometry>
				<sphere radius="0.014978" />
			</geometry>
			<origin xyz="-0.00611599542683363 0.055784566359490154 -0.020123038674920796" rpy="0 0 0" />
		</visual>
		<visual name="right_outer_finger_visual_6">
			<geometry>
				<sphere radius="0.014533" />
			</geometry>
			<origin xyz="0.00555600457316637 0.051975566359490154 -0.018955038674920797" rpy="0 0 0" />
		</visual>
		<visual name="right_outer_finger_visual_7">
			<geometry>
				<sphere radius="0.015732" />
			</geometry>
			<origin xyz="-0.0001989954268336296 0.0037445663594901576 -0.0018980386749207975" rpy="0 0 0" />
		</visual>
		<visual name="right_outer_finger_visual_8">
			<geometry>
				<sphere radius="0.015163" />
			</geometry>
			<origin xyz="0.0001950045731663704 0.06990656635949016 -0.024438038674920795" rpy="0 0 0" />
		</visual>
	</link>
	<link name="right_inner_finger">
		<inertial>
			<origin rpy="0 0 0" xyz="0.000299999999999317 0.0160078233491243 -0.0136945669206257" />
			<mass value="0.0104003125914103" />
			<inertia ixx="2.71909453810972E-06" ixy="1.35402465472579E-21" ixz="-7.1817349065269E-22" iyy="7.69100314106116E-07" iyz="6.74715432769696E-07" izz="2.30315190420171E-06" />
		</inertial>
		<collision>
			<geometry>
				<sphere radius="0.01223" />
			</geometry>
			<origin xyz="-0.00019899826326966286 0.03709378533244133 -0.017156007689893248" rpy="0 0 0" />
		</collision>
		<collision>
			<geometry>
				<sphere radius="0.012987" />
			</geometry>
			<origin xyz="-0.00019999826326966286 0.02389478533244133 -0.015688007689893244" rpy="0 0 0" />
		</collision>
		<collision>
			<geometry>
				<sphere radius="0.013304" />
			</geometry>
			<origin xyz="-0.00019999826326966286 0.0074657853324413305 -0.016401007689893245" rpy="0 0 0" />
		</collision>
		<collision>
			<geometry>
				<sphere radius="0.011631" />
			</geometry>
			<origin xyz="-0.00019999826326966286 0.0023397853324413284 -0.002310007689893246" rpy="0 0 0" />
		</collision>
		<collision>
			<geometry>
				<sphere radius="0.013312" />
			</geometry>
			<origin xyz="-0.00019999826326966286 0.01608078533244133 -0.008831007689893245" rpy="0 0 0" />
		</collision>
	<visual name="right_inner_finger_visual_1">
			<geometry>
				<sphere radius="0.01223" />
			</geometry>
			<origin xyz="-0.00019899826326966286 0.03709378533244133 -0.017156007689893248" rpy="0 0 0" />
		</visual>
		<visual name="right_inner_finger_visual_2">
			<geometry>
				<sphere radius="0.012987" />
			</geometry>
			<origin xyz="-0.00019999826326966286 0.02389478533244133 -0.015688007689893244" rpy="0 0 0" />
		</visual>
		<visual name="right_inner_finger_visual_3">
			<geometry>
				<sphere radius="0.013304" />
			</geometry>
			<origin xyz="-0.00019999826326966286 0.0074657853324413305 -0.016401007689893245" rpy="0 0 0" />
		</visual>
		<visual name="right_inner_finger_visual_4">
			<geometry>
				<sphere radius="0.011631" />
			</geometry>
			<origin xyz="-0.00019999826326966286 0.0023397853324413284 -0.002310007689893246" rpy="0 0 0" />
		</visual>
		<visual name="right_inner_finger_visual_5">
			<geometry>
				<sphere radius="0.013312" />
			</geometry>
			<origin xyz="-0.00019999826326966286 0.01608078533244133 -0.008831007689893245" rpy="0 0 0" />
		</visual>
	</link>
	<link name="right_inner_finger_pad">
		<collision>
			<geometry>
				<sphere radius="0.01168" />
			</geometry>
			<origin xyz="0.006303 -0.028186 0.0" rpy="0 0 0" />
		</collision>
		<collision>
			<geometry>
				<sphere radius="0.012372" />
			</geometry>
			<origin xyz="-0.008853 -0.02494 0.0" rpy="0 0 0" />
		</collision>
		<collision>
			<geometry>
				<sphere radius="0.011967" />
			</geometry>
			<origin xyz="0.006878 -0.012499 0.0" rpy="0 0 0" />
		</collision>
		<collision>
			<geometry>
				<sphere radius="0.012126" />
			</geometry>
			<origin xyz="-0.010292 -0.003527 0.0" rpy="0 0 0" />
		</collision>
		<collision>
			<geometry>
				<sphere radius="0.012565" />
			</geometry>
			<origin xyz="0.008954 0.006853 0.0" rpy="0 0 0" />
		</collision>
		<collision>
			<geometry>
				<sphere radius="0.010995" />
			</geometry>
			<origin xyz="-0.006813 0.014358 0.0" rpy="0 0 0" />
		</collision>
		<collision>
			<geometry>
				<sphere radius="0.012008" />
			</geometry>
			<origin xyz="0.007685 0.026253 0.0" rpy="0 0 0" />
		</collision>
		<collision>
			<geometry>
				<sphere radius="0.010647" />
			</geometry>
			<origin xyz="-0.00758 0.028348 0.0" rpy="0 0 0" />
		</collision>
	<visual name="right_inner_finger_pad_visual_1">
			<geometry>
				<sphere radius="0.01168" />
			</geometry>
			<origin xyz="0.006303 -0.028186 0.0" rpy="0 0 0" />
		</visual>
		<visual name="right_inner_finger_pad_visual_2">
			<geometry>
				<sphere radius="0.012372" />
			</geometry>
			<origin xyz="-0.008853 -0.02494 0.0" rpy="0 0 0" />
		</visual>
		<visual name="right_inner_finger_pad_visual_3">
			<geometry>
				<sphere radius="0.011967" />
			</geometry>
			<origin xyz="0.006878 -0.012499 0.0" rpy="0 0 0" />
		</visual>
		<visual name="right_inner_finger_pad_visual_4">
			<geometry>
				<sphere radius="0.012126" />
			</geometry>
			<origin xyz="-0.010292 -0.003527 0.0" rpy="0 0 0" />
		</visual>
		<visual name="right_inner_finger_pad_visual_5">
			<geometry>
				<sphere radius="0.012565" />
			</geometry>
			<origin xyz="0.008954 0.006853 0.0" rpy="0 0 0" />
		</visual>
		<visual name="right_inner_finger_pad_visual_6">
			<geometry>
				<sphere radius="0.010995" />
			</geometry>
			<origin xyz="-0.006813 0.014358 0.0" rpy="0 0 0" />
		</visual>
		<visual name="right_inner_finger_pad_visual_7">
			<geometry>
				<sphere radius="0.012008" />
			</geometry>
			<origin xyz="0.007685 0.026253 0.0" rpy="0 0 0" />
		</visual>
		<visual name="right_inner_finger_pad_visual_8">
			<geometry>
				<sphere radius="0.010647" />
			</geometry>
			<origin xyz="-0.00758 0.028348 0.0" rpy="0 0 0" />
		</visual>
	</link>
	<link name="right_inner_knuckle">
		<inertial>
			<origin rpy="0 0 0" xyz="0.000123011831763771 0.0507850843201817 0.00103968640075166" />
			<mass value="0.0271177346495152" />
			<inertia ixx="2.61910379223783E-05" ixy="-2.43616858946494E-07" ixz="-6.37789906117123E-09" iyy="2.8270243746167E-06" iyz="-5.37200748039765E-07" izz="2.83695868220296E-05" />
		</inertial>
		<collision>
			<geometry>
				<sphere radius="0.017433" />
			</geometry>
			<origin xyz="-0.011491000846385956 0.009454694714218378 -0.00021026292836666112" rpy="0 0 0" />
		</collision>
		<collision>
			<geometry>
				<sphere radius="0.017072" />
			</geometry>
			<origin xyz="0.008844999153614044 0.006851694714218377 -0.00015226292836666112" rpy="0 0 0" />
		</collision>
		<collision>
			<geometry>
				<sphere radius="0.018156" />
			</geometry>
			<origin xyz="0.009525999153614044 0.03400569471421838 -0.000754262928366661" rpy="0 0 0" />
		</collision>
		<collision>
			<geometry>
				<sphere radius="0.017869" />
			</geometry>
			<origin xyz="-0.010610000846385956 0.040353694714218374 -0.0008952629283666611" rpy="0 0 0" />
		</collision>
		<collision>
			<geometry>
				<sphere radius="0.016357" />
			</geometry>
			<origin xyz="0.010540999153614044 0.06187269471421838 -0.001373262928366661" rpy="0 0 0" />
		</collision>
		<collision>
			<geometry>
				<sphere radius="0.017531" />
			</geometry>
			<origin xyz="-0.008726000846385955 0.07194569471421838 -0.001597262928366661" rpy="0 0 0" />
		</collision>
		<collision>
			<geometry>
				<sphere radius="0.016813" />
			</geometry>
			<origin xyz="0.013444999153614044 0.09027369471421838 -0.002003262928366661" rpy="0 0 0" />
		</collision>
		<collision>
			<geometry>
				<sphere radius="0.014551" />
			</geometry>
			<origin xyz="-0.002933000846385956 0.09701569471421838 -0.002153262928366661" rpy="0 0 0" />
		</collision>
	<visual name="right_inner_knuckle_visual_1">
			<geometry>
				<sphere radius="0.017433" />
			</geometry>
			<origin xyz="-0.011491000846385956 0.009454694714218378 -0.00021026292836666112" rpy="0 0 0" />
		</visual>
		<visual name="right_inner_knuckle_visual_2">
			<geometry>
				<sphere radius="0.017072" />
			</geometry>
			<origin xyz="0.008844999153614044 0.006851694714218377 -0.00015226292836666112" rpy="0 0 0" />
		</visual>
		<visual name="right_inner_knuckle_visual_3">
			<geometry>
				<sphere radius="0.018156" />
			</geometry>
			<origin xyz="0.009525999153614044 0.03400569471421838 -0.000754262928366661" rpy="0 0 0" />
		</visual>
		<visual name="right_inner_knuckle_visual_4">
			<geometry>
				<sphere radius="0.017869" />
			</geometry>
			<origin xyz="-0.010610000846385956 0.040353694714218374 -0.0008952629283666611" rpy="0 0 0" />
		</visual>
		<visual name="right_inner_knuckle_visual_5">
			<geometry>
				<sphere radius="0.016357" />
			</geometry>
			<origin xyz="0.010540999153614044 0.06187269471421838 -0.001373262928366661" rpy="0 0 0" />
		</visual>
		<visual name="right_inner_knuckle_visual_6">
			<geometry>
				<sphere radius="0.017531" />
			</geometry>
			<origin xyz="-0.008726000846385955 0.07194569471421838 -0.001597262928366661" rpy="0 0 0" />
		</visual>
		<visual name="right_inner_knuckle_visual_7">
			<geometry>
				<sphere radius="0.016813" />
			</geometry>
			<origin xyz="0.013444999153614044 0.09027369471421838 -0.002003262928366661" rpy="0 0 0" />
		</visual>
		<visual name="right_inner_knuckle_visual_8">
			<geometry>
				<sphere radius="0.014551" />
			</geometry>
			<origin xyz="-0.002933000846385956 0.09701569471421838 -0.002153262928366661" rpy="0 0 0" />
		</visual>
	</link>
	<joint name="joint_1" type="continuous">
		<origin rpy="3.1416 2.7629E-18 -4.9305E-36" xyz="0 0 0.15643" />
		<parent link="base_link" />
		<child link="shoulder_link" />
		<axis xyz="0 0 1" />
		<limit effort="39" velocity="1.3963" />
	</joint>
	<joint name="joint_2" type="revolute">
		<origin rpy="1.5708 2.1343E-17 -1.1102E-16" xyz="0 0.005375 -0.12838" />
		<parent link="shoulder_link" />
		<child link="half_arm_1_link" />
		<axis xyz="0 0 1" />
		<limit effort="39" lower="-2.24" upper="2.24" velocity="1.3963" />
	</joint>
	<joint name="joint_3" type="continuous">
		<origin rpy="-1.5708 1.2326E-32 -2.9122E-16" xyz="0 -0.21038 -0.006375" />
		<parent link="half_arm_1_link" />
		<child link="half_arm_2_link" />
		<axis xyz="0 0 1" />
		<limit effort="39" velocity="1.3963" />
	</joint>
	<joint name="joint_4" type="revolute">
		<origin rpy="1.5708 -6.6954E-17 -1.6653E-16" xyz="0 0.006375 -0.21038" />
		<parent link="half_arm_2_link" />
		<child link="forearm_link" />
		<axis xyz="0 0 1" />
		<limit effort="39" lower="-2.57" upper="2.57" velocity="1.3963" />
	</joint>
	<joint name="joint_5" type="continuous">
		<origin rpy="-1.5708 2.2204E-16 -6.373E-17" xyz="0 -0.20843 -0.006375" />
		<parent link="forearm_link" />
		<child link="spherical_wrist_1_link" />
		<axis xyz="0 0 1" />
		<limit effort="9" velocity="1.2218" />
	</joint>
	<joint name="joint_6" type="revolute">
		<origin rpy="1.5708 9.2076E-28 -8.2157E-15" xyz="0 0.00017505 -0.10593" />
		<parent link="spherical_wrist_1_link" />
		<child link="spherical_wrist_2_link" />
		<axis xyz="0 0 1" />
		<limit effort="9" lower="-2.09" upper="2.09" velocity="1.2218" />
	</joint>
	<joint name="joint_7" type="continuous">
		<origin rpy="-1.5708 -5.5511E-17 9.6396E-17" xyz="0 -0.10593 -0.00017505" />
		<parent link="spherical_wrist_2_link" />
		<child link="bracelet_link" />
		<axis xyz="0 0 1" />
		<limit effort="9" velocity="1.2218" />
	</joint>
	<joint name="end_effector" type="fixed">
		<origin rpy="3.14159265358979 1.09937075168372E-32 0" xyz="0 0 -0.0615250000000001" />
		<parent link="bracelet_link" />
		<child link="end_effector_link" />
		<axis xyz="0 0 0" />
	</joint>
	<joint name="tool_frame_joint" type="fixed">
		<origin rpy="0 0 0" xyz="0 0 0.20" />
		<parent link="end_effector_link" />
		<child link="tool_frame" />
		<axis xyz="0 0 0" />
	</joint>
	<joint name="gripper_base_joint" type="fixed">
		<parent link="end_effector_link" />
		<child link="robotiq_arg2f_base_link" />
		<origin rpy="0.0 0.0 1.57" xyz="0.0 0.0 0.0" />
	</joint>
	<joint name="finger_joint" type="fixed">
		<origin rpy="2.2957963267948966 0 0" xyz="0 -0.030601 0.054905" />
		<parent link="robotiq_arg2f_base_link" />
		<child link="left_outer_knuckle" />
		<axis xyz="-1 0 0" />
		<limit effort="1000" lower="0" upper="0.7" velocity="2.0" />
	</joint>
	<joint name="left_outer_finger_joint" type="fixed">
		<origin rpy="0 0 0" xyz="0 0.01821998610742 0.0260018192872234" />
		<parent link="left_outer_knuckle" />
		<child link="left_outer_finger" />
		<axis xyz="1 0 0" />
	</joint>
	<joint name="left_inner_knuckle_joint" type="fixed">
		<origin rpy="2.2957963267948966 0 0.0" xyz="0 -0.0127 0.06142" />
		<parent link="robotiq_arg2f_base_link" />
		<child link="left_inner_knuckle" />
		<axis xyz="1 0 0" />
		<limit effort="1000" lower="-0.8757" upper="0.8757" velocity="2.0" />
		<mimic joint="finger_joint" multiplier="-1" offset="0" />
	</joint>
	<joint name="left_inner_finger_joint" type="fixed">
		<origin rpy="-0.725 0 0" xyz="0 0.0817554015893473 -0.0282203446692936" />
		<parent link="left_outer_finger" />
		<child link="left_inner_finger" />
		<axis xyz="1 0 0" />
		<limit effort="1000" lower="-0.8757" upper="0.8757" velocity="2.0" />
		<mimic joint="finger_joint" multiplier="1" offset="0" />
	</joint>
	<joint name="left_inner_finger_pad_joint" type="fixed">
		<origin rpy="0 0 0" xyz="0 0.0457554015893473 -0.0272203446692936" />
		<parent link="left_inner_finger" />
		<child link="left_inner_finger_pad" />
		<axis xyz="0 0 1" />
	</joint>
	<joint name="right_outer_knuckle_joint" type="fixed">
		<origin rpy="2.2957963267948966 0 3.141592653589793" xyz="0 0.030601 0.054905" />
		<parent link="robotiq_arg2f_base_link" />
		<child link="right_outer_knuckle" />
		<axis xyz="1 0 0" />
		<limit effort="1000" lower="-0.725" upper="0.725" velocity="2.0" />
		<mimic joint="finger_joint" multiplier="-1" offset="0" />
	</joint>
	<joint name="right_outer_finger_joint" type="fixed">
		<origin rpy="0 0 0" xyz="0 0.01821998610742 0.0260018192872234" />
		<parent link="right_outer_knuckle" />
		<child link="right_outer_finger" />
		<axis xyz="1 0 0" />
	</joint>
	<joint name="right_inner_knuckle_joint" type="fixed">
		<origin rpy="2.2957963267948966 0 -3.141592653589793" xyz="0 0.0127 0.06142" />
		<parent link="robotiq_arg2f_base_link" />
		<child link="right_inner_knuckle" />
		<axis xyz="1 0 0" />
		<limit effort="1000" lower="-0.8757" upper="0.8757" velocity="2.0" />
		<mimic joint="finger_joint" multiplier="-1" offset="0" />
	</joint>
	<joint name="right_inner_finger_joint" type="fixed">
		<origin rpy="-0.725 0 0" xyz="0 0.0817554015893473 -0.0282203446692936" />
		<parent link="right_outer_finger" />
		<child link="right_inner_finger" />
		<axis xyz="1 0 0" />
		<limit effort="1000" lower="-0.8757" upper="0.8757" velocity="2.0" />
		<mimic joint="finger_joint" multiplier="1" offset="0" />
	</joint>
	<joint name="right_inner_finger_pad_joint" type="fixed">
		<origin rpy="0 0 0" xyz="0 0.0457554015893473 -0.0272203446692936" />
		<parent link="right_inner_finger" />
		<child link="right_inner_finger_pad" />
		<axis xyz="0 0 1" />
	</joint>
	<gazebo reference="robotiq_arg2f_base_link">
		<material>Gazebo/Black</material>
	</gazebo>
	<gazebo reference="left_outer_knuckle">
		<visual>
			<material>
				<ambient>0.792156862745098 0.819607843137255 0.933333333333333 1</ambient>
				<diffuse>0.792156862745098 0.819607843137255 0.933333333333333 1</diffuse>
			</material>
		</visual>
	</gazebo>
	<gazebo reference="left_outer_finger">
		<material>Gazebo/Black</material>
	</gazebo>
	<gazebo reference="left_inner_finger">
		<material>Gazebo/Black</material>
	</gazebo>
	<gazebo reference="left_inner_knuckle">
		<material>Gazebo/Black</material>
	</gazebo>
	<gazebo reference="right_outer_knuckle">
		<visual>
			<material>
				<ambient>0.792156862745098 0.819607843137255 0.933333333333333 1</ambient>
				<diffuse>0.792156862745098 0.819607843137255 0.933333333333333 1</diffuse>
			</material>
		</visual>
	</gazebo>
	<gazebo reference="right_outer_finger">
		<material>Gazebo/Black</material>
	</gazebo>
	<gazebo reference="right_inner_finger">
		<material>Gazebo/Black</material>
	</gazebo>
	<gazebo reference="right_inner_knuckle">
		<material>Gazebo/Black</material>
	</gazebo>
</robot>
